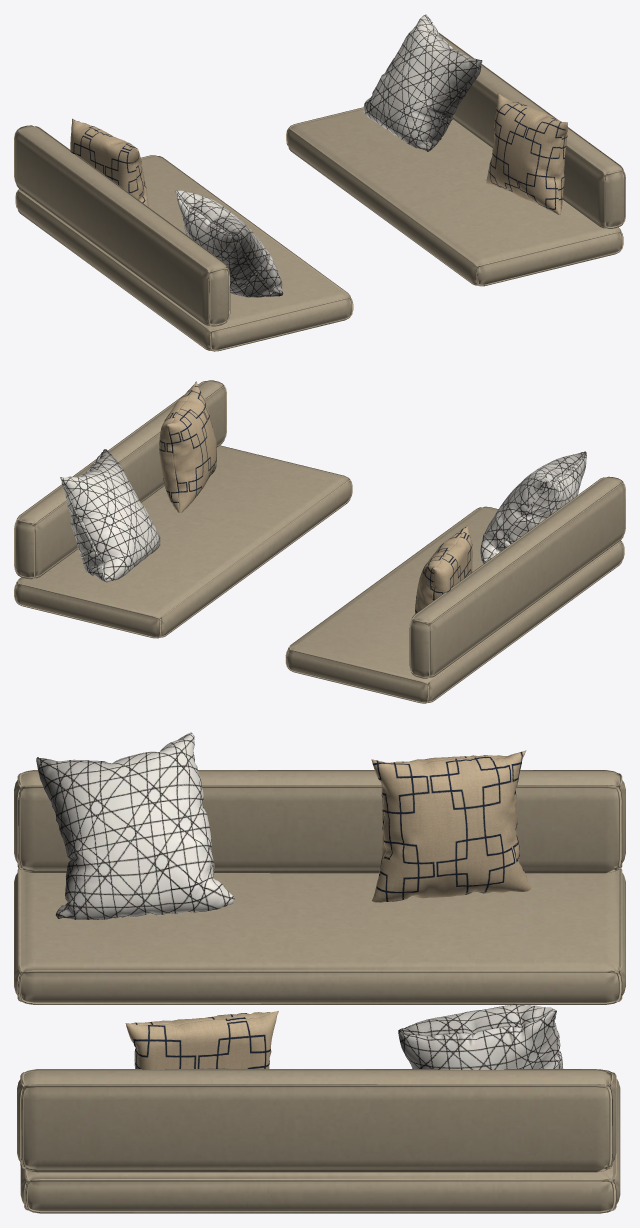
The model's file is dinette-cushion-set.glb.
3 views of the same model, one above another, from view 1: azimuth 30°, elevation 25°; view 2: azimuth 150°, elevation 25°; view 3: azimuth 270°, elevation 25° (orthographic). The views are drawn at different scales.
Visible parts, largest first — view 1: trunk_part_39.009, trunk_part_39.023, trunk_part_39.037, Patterned pillow-01.001, trunk_part_39.040, Pattern cushion-D.001, Patterned pillow-01, Pattern cushion-D; view 2: trunk_part_39.009, trunk_part_39.037, trunk_part_39.023, trunk_part_39.040, Patterned pillow-01.001, Pattern cushion-D.001, Patterned pillow-01, Pattern cushion-D; view 3: trunk_part_39.037, trunk_part_39.040, trunk_part_39.023, trunk_part_39.009, Patterned pillow-01, Pattern cushion-D, Patterned pillow-01.001, Pattern cushion-D.001.
Part boxes in pixels (x1,y1,x2,y2): trunk_part_39.009: (286, 107, 623, 286); trunk_part_39.023: (14, 125, 230, 326); trunk_part_39.037: (15, 155, 353, 351); Patterned pillow-01.001: (363, 14, 482, 151); trunk_part_39.040: (438, 32, 625, 228); Pattern cushion-D.001: (486, 93, 567, 214); Patterned pillow-01: (175, 190, 283, 297); Pattern cushion-D: (70, 118, 148, 206); trunk_part_39.009: (14, 445, 352, 638); trunk_part_39.037: (285, 506, 624, 703); trunk_part_39.023: (409, 476, 625, 678); trunk_part_39.040: (14, 380, 226, 579); Patterned pillow-01.001: (60, 449, 160, 582); Pattern cushion-D.001: (159, 381, 216, 512); Patterned pillow-01: (480, 451, 586, 564); Pattern cushion-D: (415, 525, 472, 613); trunk_part_39.037: (14, 868, 625, 1004); trunk_part_39.040: (17, 1069, 616, 1172); trunk_part_39.023: (14, 770, 625, 873); trunk_part_39.009: (20, 1069, 620, 1213); Patterned pillow-01: (36, 732, 234, 919); Pattern cushion-D: (371, 750, 531, 902); Patterned pillow-01.001: (398, 1004, 563, 1069); Pattern cushion-D.001: (125, 1011, 278, 1069).
Bounding box in the file's own units: 1.71 × 0.4689 × 1.39.
3 materials, 3 textured.
